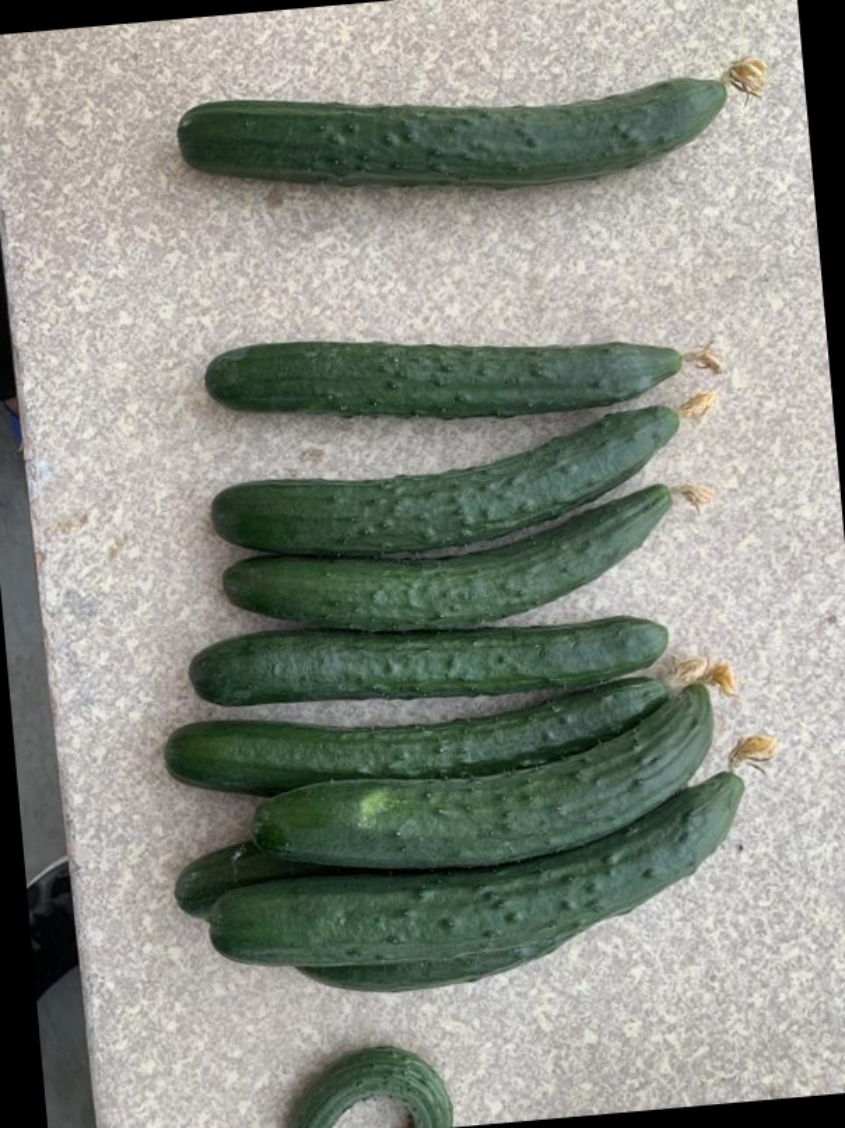mature: (210, 769, 748, 964)
